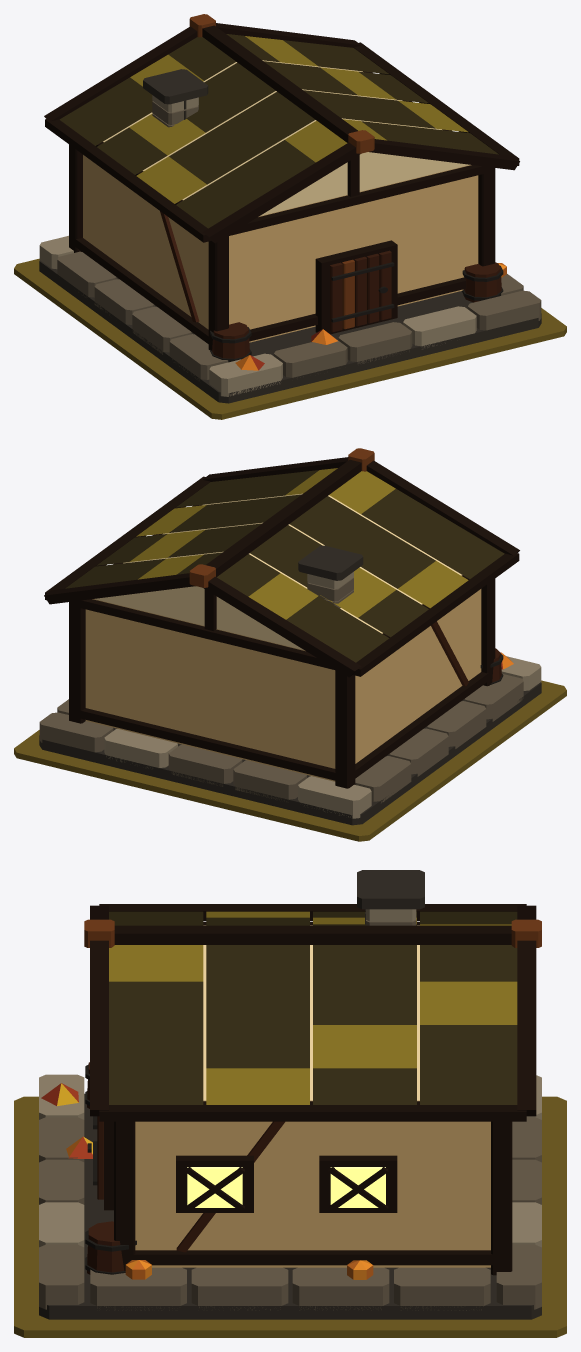
File: longhouse_t4.glb
3 views of the same model, one above another, from view 1: azimuth 30°, elevation 25°; view 2: azimuth 150°, elevation 25°; view 3: azimuth 270°, elevation 25° (orthographic). The views are drawn at different scales.
Parts seen in each view (by area): view 1: MMR | longhouse | T04 Architecture.001, MMR | longhouse | Tier 04 Ground.001, MMR | longhouse | T04 Autumn Dressing.001; view 2: MMR | longhouse | T04 Architecture.001, MMR | longhouse | Tier 04 Ground.001; view 3: MMR | longhouse | T04 Architecture.001, MMR | longhouse | Tier 04 Ground.001, MMR | longhouse | T04 Autumn Dressing.001.
Part boxes in pixels (bbox=[...]): MMR | longhouse | T04 Architecture.001: bbox=[39, 14, 541, 403]; MMR | longhouse | Tier 04 Ground.001: bbox=[14, 258, 566, 419]; MMR | longhouse | T04 Autumn Dressing.001: bbox=[235, 263, 506, 370]; MMR | longhouse | T04 Architecture.001: bbox=[39, 448, 541, 825]; MMR | longhouse | Tier 04 Ground.001: bbox=[14, 680, 566, 841]; MMR | longhouse | T04 Architecture.001: bbox=[39, 870, 541, 1319]; MMR | longhouse | Tier 04 Ground.001: bbox=[14, 1096, 566, 1337]; MMR | longhouse | T04 Autumn Dressing.001: bbox=[41, 1083, 373, 1279].
Size of the model in its own units: 3.3 by 1.94 by 3.3.
Materials: 2 (1 with a texture image).
